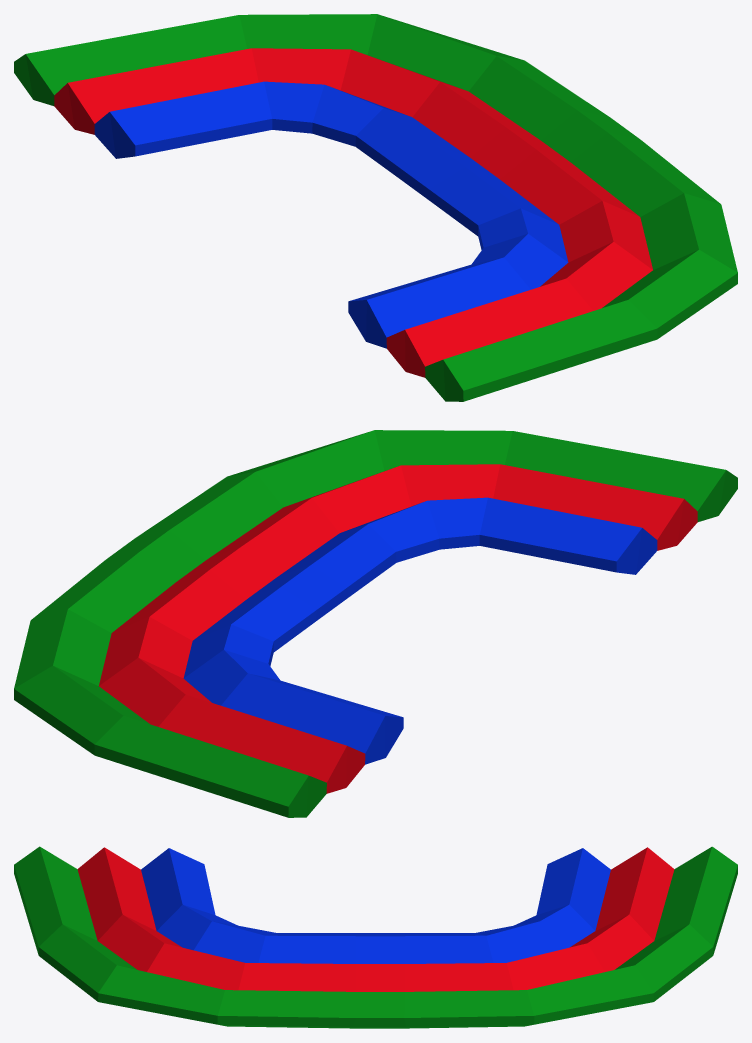
Rendered from part4_wires.fbx.
3 views of the same model, one above another, from view 1: azimuth 30°, elevation 25°; view 2: azimuth 150°, elevation 25°; view 3: azimuth 270°, elevation 25° (orthographic). The views are drawn at different scales.
Parts seen in each view (by area): view 1: Plane.001; view 2: Plane.001; view 3: Plane.001.
Boxes of the visible parts, x1,y1,x2,y2 form: Plane.001: (14,14,737,401); Plane.001: (14,430,737,817); Plane.001: (14,846,737,1028).
Size of the model in its own units: 47.62 by 5.86 by 93.95.
